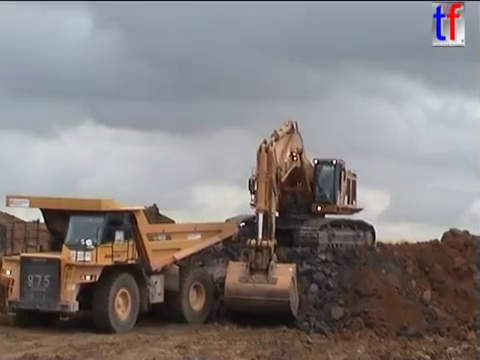excavator: (221, 118, 379, 323)
truck: (1, 193, 241, 335)
